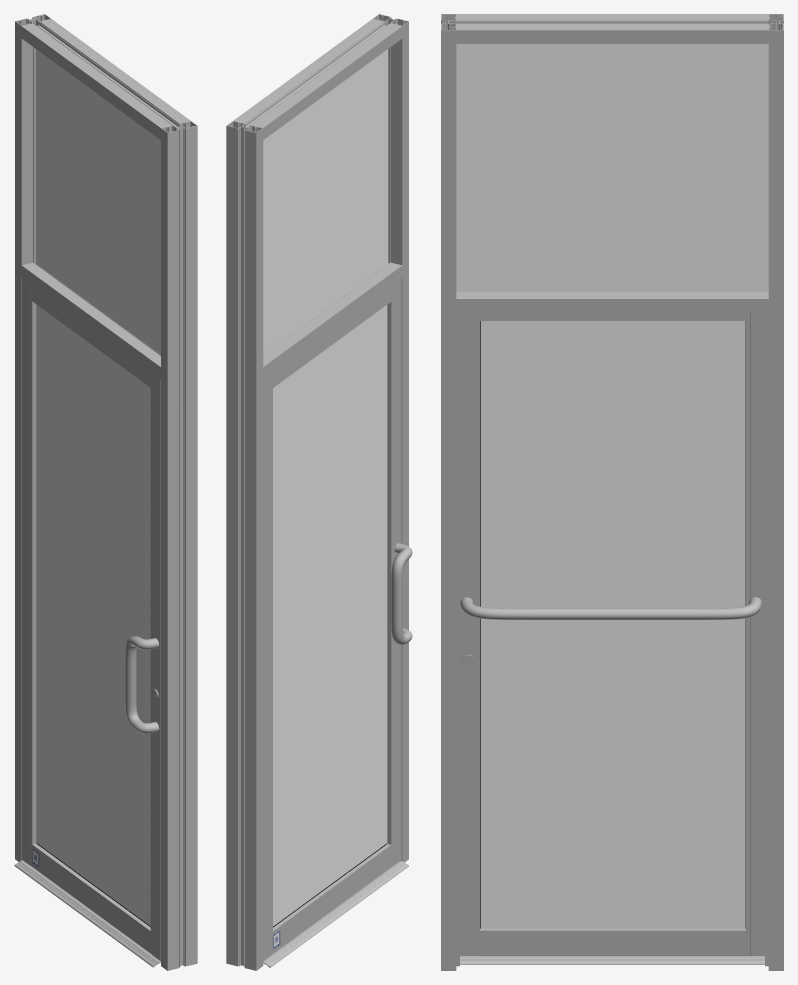
The model's file is TransomedD200WithAnimation.glb.
The picture shows the model from 3 angles, left to right: view 1: azimuth 30°, elevation 25°; view 2: azimuth 150°, elevation 25°; view 3: azimuth 270°, elevation 25°; orthographic projection. The views are drawn at different scales.
Parts seen in each view (by area): view 1: Cube.003, Cube.004, PROFILE_curve_.031, PROFILE_curve_.032, PROFILE_curve_.034, PROFILE_curve_.036, PROFILE_curve_.035, PROFILE_curve_.002, PROFILE_curve_.030, PROFILE_curve_.001, PROFILE_curve_.026, PROFILE_curve_.027 (+3 smaller); view 2: Cube.003, Cube.004, PROFILE_curve_.033, PROFILE_curve_.034, PROFILE_curve_.032, PROFILE_curve_.035, PROFILE_curve_.036, PROFILE_curve_.002, PROFILE_curve_.030, PROFILE_curve_.001, PROFILE_curve_.026, PROFILE_curve_.027 (+3 smaller); view 3: Cube.003, Cube.004, PROFILE_curve_.034, PROFILE_curve_.032, PROFILE_curve_.035, PROFILE_curve_.036, PROFILE_curve_.030, PROFILE_curve_.001, PROFILE_curve_.026, PROFILE_curve_.002, NurbsPath.002, PROFILE_curve_.029 (+4 smaller).
Part boxes in pixels (x1=…): Cube.003: x1=36, y1=304, x2=150, y2=925; Cube.004: x1=36, y1=49, x2=160, y2=354; PROFILE_curve_.031: x1=170, y1=126, x2=194, y2=969; PROFILE_curve_.032: x1=161, y1=121, x2=197, y2=970; PROFILE_curve_.034: x1=15, y1=14, x2=51, y2=861; PROFILE_curve_.036: x1=22, y1=278, x2=36, y2=866; PROFILE_curve_.035: x1=150, y1=372, x2=160, y2=960; PROFILE_curve_.002: x1=25, y1=19, x2=187, y2=127; PROFILE_curve_.030: x1=32, y1=843, x2=150, y2=953; PROFILE_curve_.001: x1=21, y1=19, x2=190, y2=139; PROFILE_curve_.026: x1=21, y1=264, x2=160, y2=379; PROFILE_curve_.027: x1=32, y1=285, x2=150, y2=387; Cube.003: x1=273, y1=305, x2=387, y2=926; Cube.004: x1=263, y1=49, x2=388, y2=354; PROFILE_curve_.033: x1=229, y1=125, x2=253, y2=969; PROFILE_curve_.034: x1=226, y1=121, x2=263, y2=970; PROFILE_curve_.032: x1=373, y1=14, x2=408, y2=862; PROFILE_curve_.035: x1=387, y1=278, x2=401, y2=866; PROFILE_curve_.036: x1=263, y1=372, x2=272, y2=960; PROFILE_curve_.002: x1=236, y1=19, x2=398, y2=127; PROFILE_curve_.030: x1=273, y1=844, x2=391, y2=953; PROFILE_curve_.001: x1=233, y1=19, x2=402, y2=139; PROFILE_curve_.026: x1=263, y1=264, x2=402, y2=378; PROFILE_curve_.027: x1=273, y1=286, x2=391, y2=387; Cube.003: x1=480, y1=321, x2=745, y2=928; Cube.004: x1=456, y1=44, x2=768, y2=292; PROFILE_curve_.034: x1=768, y1=14, x2=783, y2=970; PROFILE_curve_.032: x1=441, y1=14, x2=456, y2=970; PROFILE_curve_.035: x1=460, y1=312, x2=479, y2=955; PROFILE_curve_.036: x1=746, y1=312, x2=764, y2=955; PROFILE_curve_.030: x1=480, y1=928, x2=745, y2=955; PROFILE_curve_.001: x1=456, y1=14, x2=768, y2=43; PROFILE_curve_.026: x1=456, y1=297, x2=768, y2=312; PROFILE_curve_.002: x1=456, y1=15, x2=768, y2=28; NurbsPath.002: x1=460, y1=597, x2=761, y2=619; PROFILE_curve_.029: x1=460, y1=956, x2=764, y2=964.
Size of the model in its own units: 0.2121 by 3.05 by 1.01.
5 materials, 1 textured.
